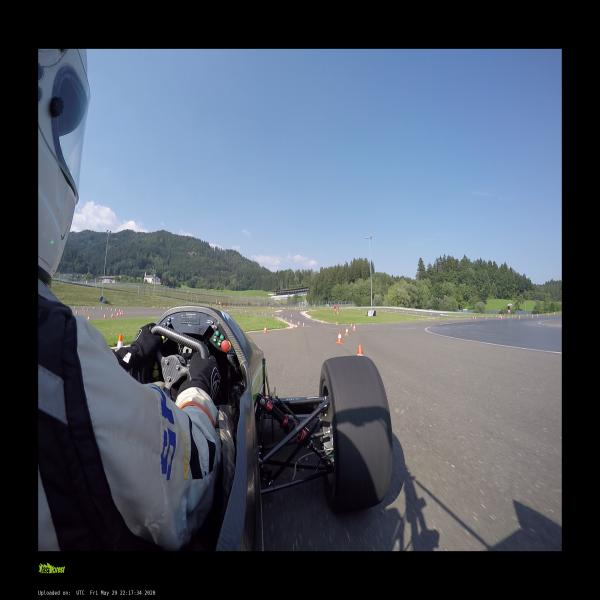orange_cone: (336, 330, 343, 344), (117, 334, 123, 348), (358, 345, 363, 355), (86, 315, 91, 322), (345, 327, 349, 335), (102, 313, 106, 319), (353, 324, 356, 331), (264, 325, 266, 333), (302, 322, 305, 327), (111, 313, 113, 318), (293, 324, 295, 329), (120, 309, 123, 312), (116, 312, 118, 316), (75, 310, 77, 314), (290, 319, 292, 323), (350, 323, 352, 327), (336, 321, 338, 325), (119, 312, 121, 315), (84, 310, 86, 312), (298, 321, 299, 325), (119, 313, 121, 315), (121, 311, 123, 313), (82, 306, 84, 308), (82, 307, 83, 310), (119, 309, 120, 312), (87, 308, 88, 311), (74, 306, 75, 308), (115, 309, 116, 311)
